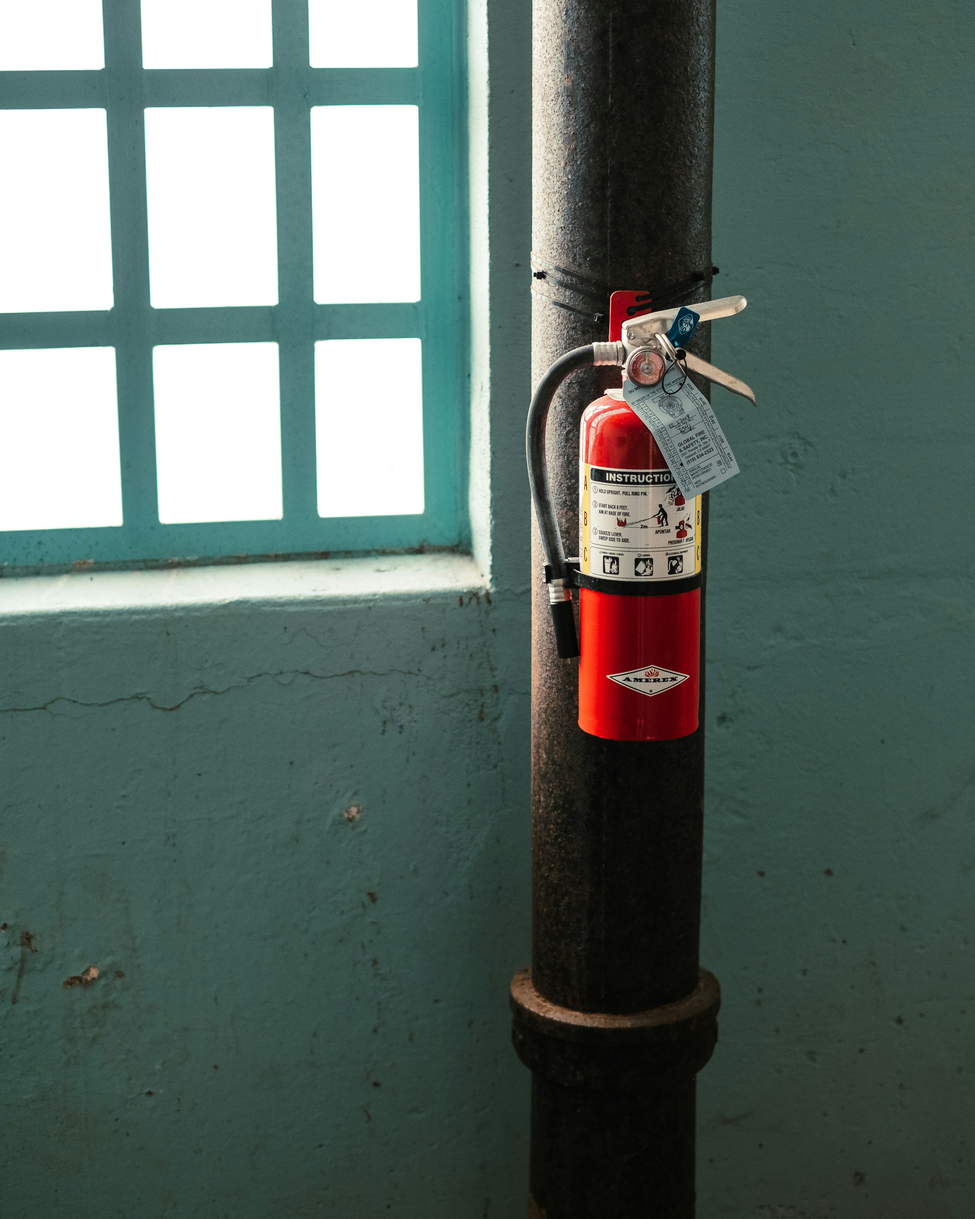fire_extinguisher: (525, 289, 756, 743)
